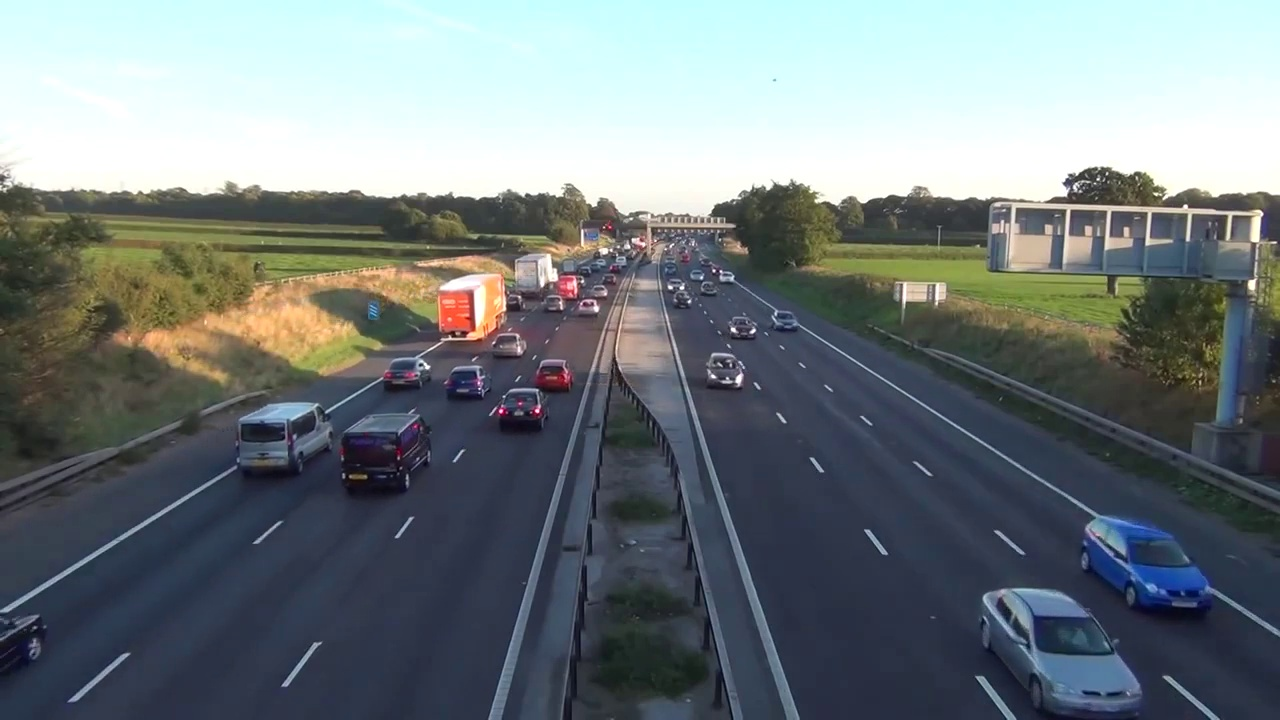bus: (979, 582, 1147, 714), (1075, 507, 1213, 620), (4, 608, 43, 677), (378, 354, 434, 395), (498, 388, 549, 433), (704, 351, 746, 390), (535, 355, 575, 393), (444, 366, 490, 395), (491, 334, 527, 358), (729, 316, 759, 343), (770, 309, 799, 332), (579, 299, 601, 318), (672, 290, 692, 310), (544, 295, 566, 313), (507, 294, 527, 312), (667, 277, 686, 292), (700, 282, 718, 296), (719, 271, 736, 285), (591, 286, 608, 299), (690, 268, 705, 282), (601, 274, 618, 286), (711, 265, 724, 277), (574, 276, 586, 288), (664, 263, 676, 275), (579, 266, 593, 276), (590, 262, 600, 273), (610, 263, 621, 273), (553, 268, 559, 286)
car: (436, 272, 509, 346), (513, 252, 554, 302), (562, 259, 578, 277)
lorry: (338, 404, 435, 497), (232, 401, 332, 479), (558, 275, 580, 301)
